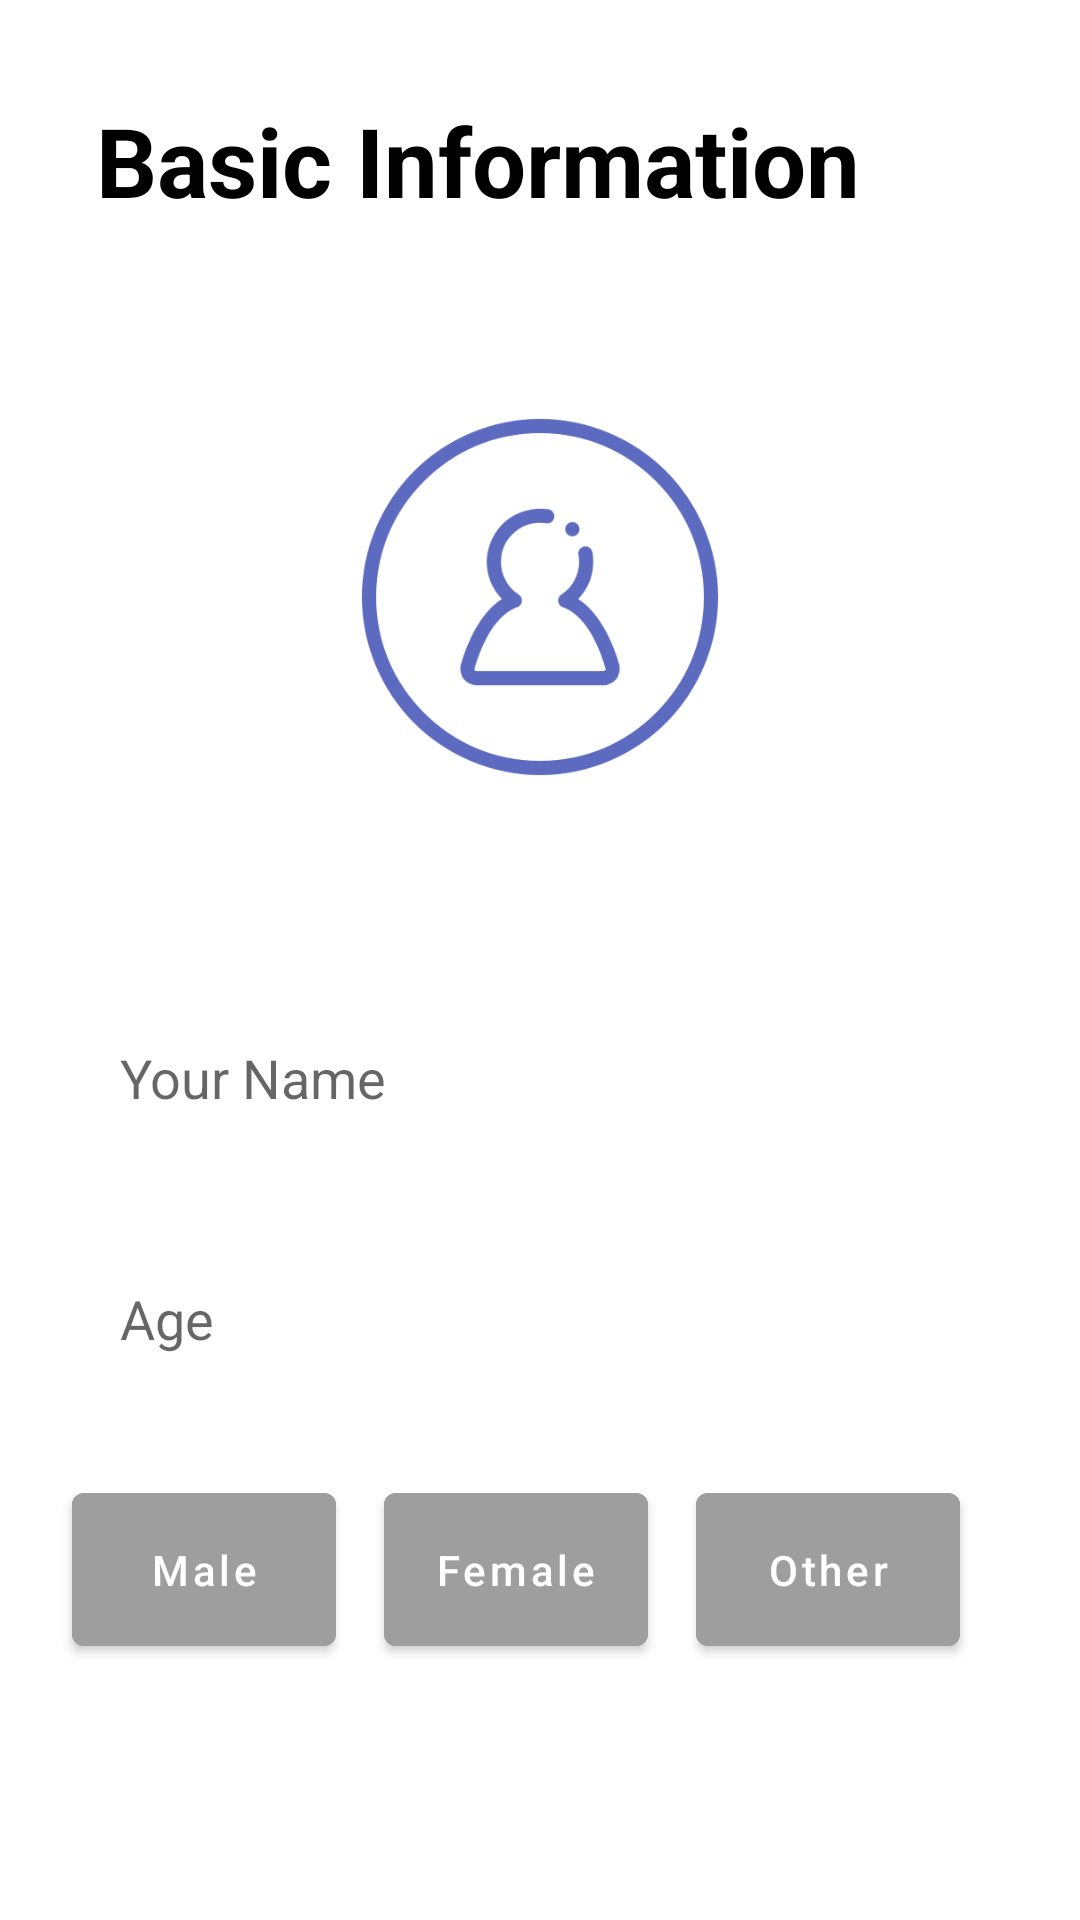

Screen size 1080×1920. Icon name, then its center in pixels as point (x, y):
profile pic: point (540, 597)
